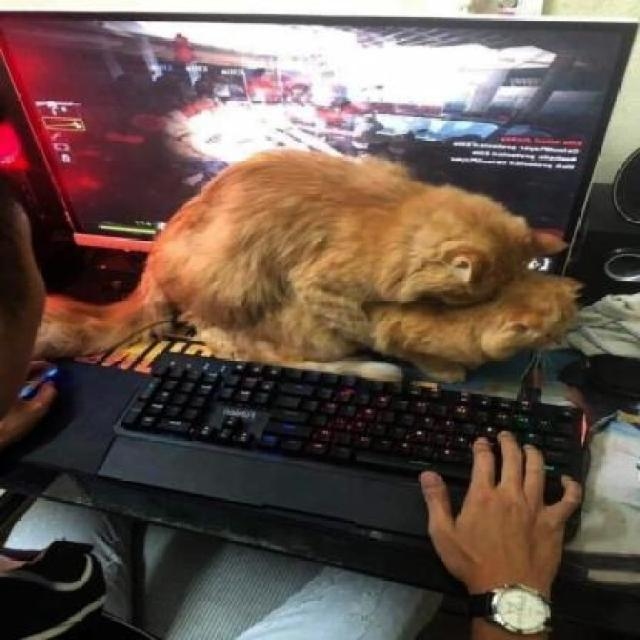cat: (9, 164, 582, 378)
